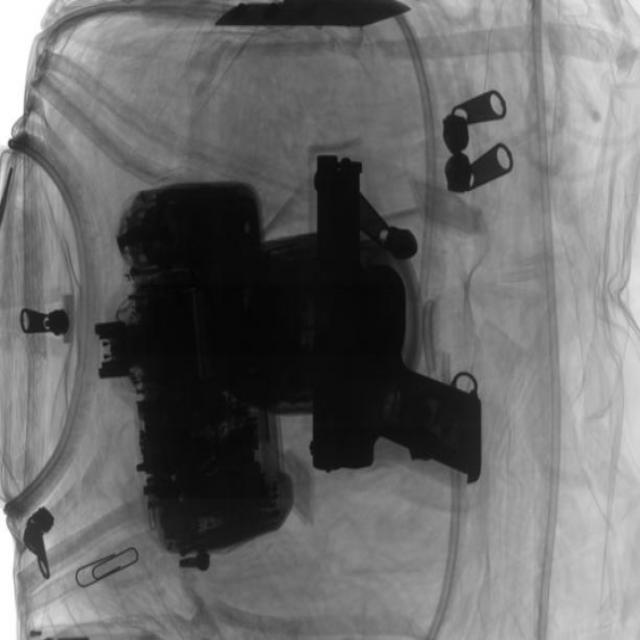GUN: (307, 147, 494, 486)
